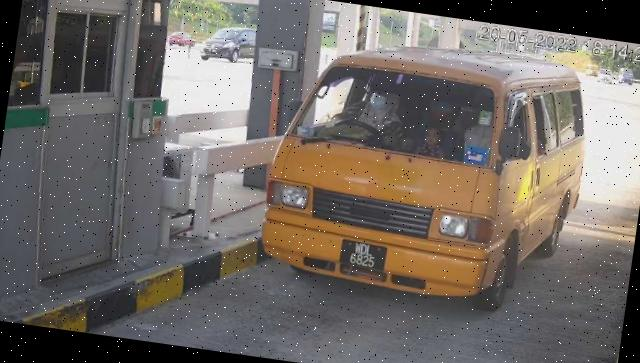License_Plate: (338, 237, 390, 274)
van: (256, 24, 598, 321)
